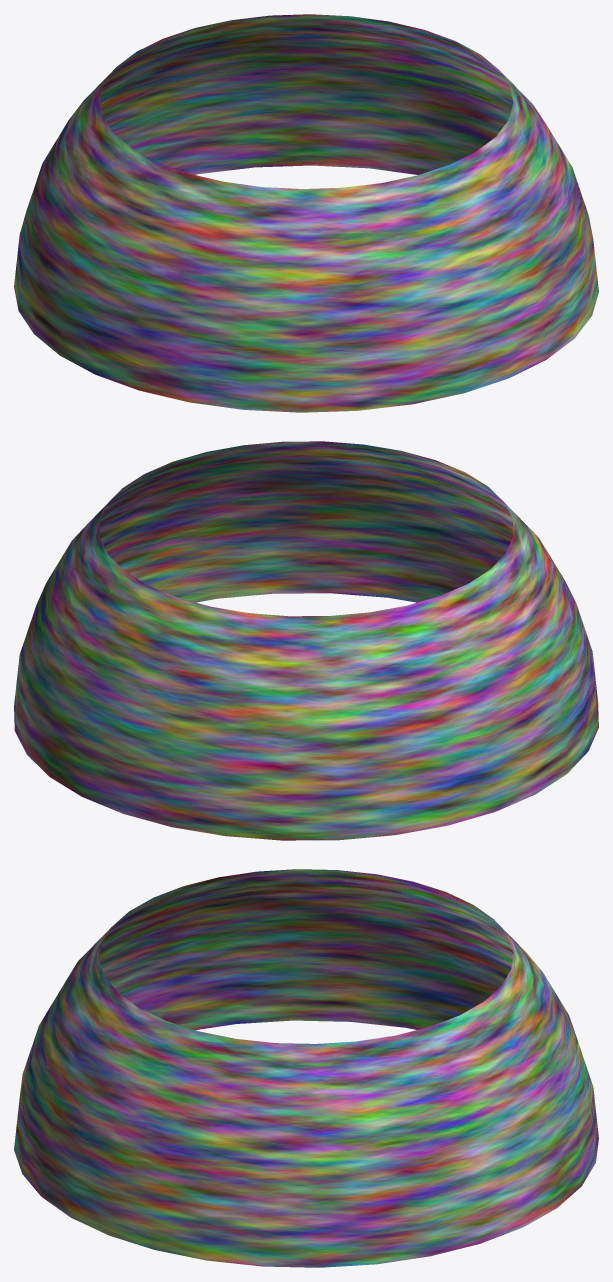
Rendered from sky_dome.glb.
The picture shows the model from 3 angles, top to bottom: view 1: azimuth 30°, elevation 25°; view 2: azimuth 150°, elevation 25°; view 3: azimuth 270°, elevation 25°; orthographic projection.
Visible parts, largest first — view 1: Sphere; view 2: Sphere; view 3: Sphere.
Part boxes in pixels (x1,y1,x2,y2): Sphere: [14, 14, 598, 412]; Sphere: [14, 441, 598, 840]; Sphere: [14, 869, 598, 1267].
Size of the model in its own units: 684 by 242 by 684.
Materials: 1 (1 with a texture image).
